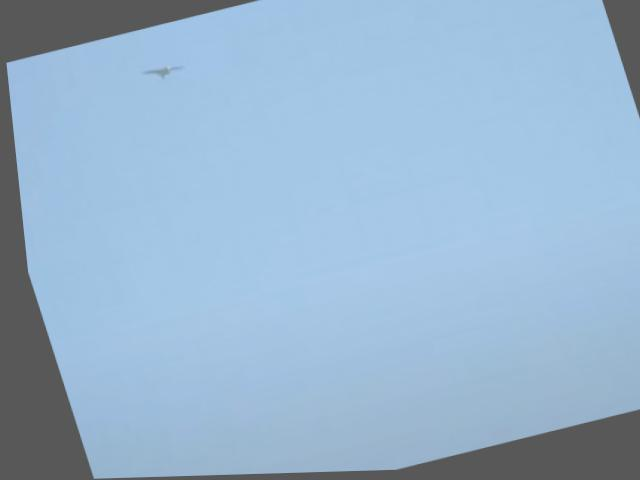iha: (136, 57, 185, 87)
